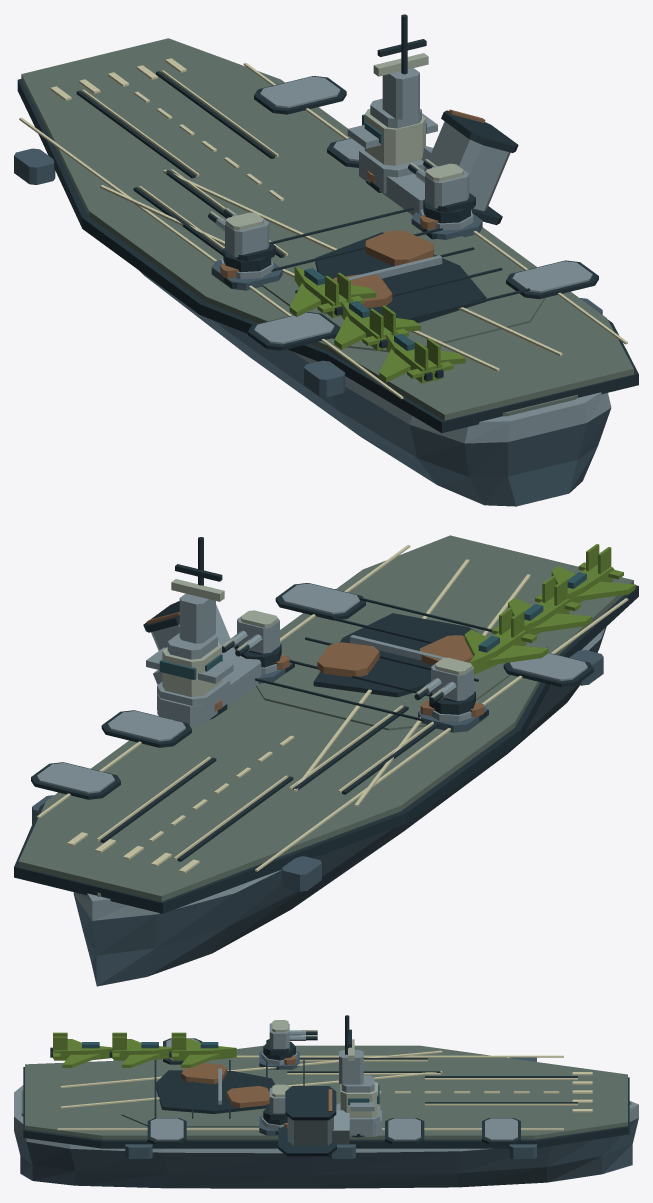
The model's file is historic-john-f-kennedy.glb.
3 renders of one model, top to bottom at view 1: azimuth 30°, elevation 25°; view 2: azimuth 150°, elevation 25°; view 3: azimuth 270°, elevation 25°, orthographic. The views are drawn at different scales.
Visible parts, largest first — view 1: historic-john-f-kennedy-historic-john-f-kennedy-geometry, historic-john-f-kennedy-part_flight-deck.021-geometry, historic-john-f-kennedy-ruin_flight-deck.020-geometry, historic-john-f-kennedy-part_bridge.079-geometry, historic-john-f-kennedy-outward-canted-uptake.001-geometry, historic-john-f-kennedy-turret_aa_aa-port.083-geometry, historic-john-f-kennedy-turret_aa_aa-starboard.079-geometry, historic-john-f-kennedy-parked_aircraft_0.021-geometry, historic-john-f-kennedy-parked_aircraft_2.021-geometry, historic-john-f-kennedy-parked_aircraft_1.021-geometry, historic-john-f-kennedy-aircraft_lift_0.021-geometry, historic-john-f-kennedy-aircraft_lift_2.016-geometry (+5 smaller); view 2: historic-john-f-kennedy-historic-john-f-kennedy-geometry, historic-john-f-kennedy-part_flight-deck.021-geometry, historic-john-f-kennedy-ruin_flight-deck.020-geometry, historic-john-f-kennedy-part_bridge.079-geometry, historic-john-f-kennedy-parked_aircraft_2.021-geometry, historic-john-f-kennedy-parked_aircraft_0.021-geometry, historic-john-f-kennedy-parked_aircraft_1.021-geometry, historic-john-f-kennedy-turret_aa_aa-port.083-geometry, historic-john-f-kennedy-aircraft_lift_1.021-geometry, historic-john-f-kennedy-aircraft_lift_0.021-geometry, historic-john-f-kennedy-turret_aa_aa-starboard.079-geometry, historic-john-f-kennedy-aircraft_lift_2.016-geometry (+4 smaller); view 3: historic-john-f-kennedy-historic-john-f-kennedy-geometry, historic-john-f-kennedy-part_flight-deck.021-geometry, historic-john-f-kennedy-ruin_flight-deck.020-geometry, historic-john-f-kennedy-outward-canted-uptake.001-geometry, historic-john-f-kennedy-part_bridge.079-geometry, historic-john-f-kennedy-parked_aircraft_2.021-geometry, historic-john-f-kennedy-parked_aircraft_0.021-geometry, historic-john-f-kennedy-parked_aircraft_1.021-geometry, historic-john-f-kennedy-turret_aa_aa-port.083-geometry, historic-john-f-kennedy-aircraft_lift_1.021-geometry, historic-john-f-kennedy-aircraft_lift_2.016-geometry, historic-john-f-kennedy-aircraft_lift_0.021-geometry (+3 smaller).
Boxes of the visible parts, x1,y1,x2,y2 form: historic-john-f-kennedy-historic-john-f-kennedy-geometry: (14, 38, 638, 506); historic-john-f-kennedy-part_flight-deck.021-geometry: (262, 207, 545, 352); historic-john-f-kennedy-ruin_flight-deck.020-geometry: (315, 230, 486, 322); historic-john-f-kennedy-part_bridge.079-geometry: (347, 14, 437, 193); historic-john-f-kennedy-outward-canted-uptake.001-geometry: (421, 109, 518, 225); historic-john-f-kennedy-turret_aa_aa-port.083-geometry: (208, 207, 275, 272); historic-john-f-kennedy-turret_aa_aa-starboard.079-geometry: (408, 159, 475, 223); historic-john-f-kennedy-parked_aircraft_0.021-geometry: (379, 332, 465, 383); historic-john-f-kennedy-parked_aircraft_2.021-geometry: (289, 266, 376, 317); historic-john-f-kennedy-parked_aircraft_1.021-geometry: (334, 299, 420, 350); historic-john-f-kennedy-aircraft_lift_0.021-geometry: (254, 76, 346, 114); historic-john-f-kennedy-aircraft_lift_2.016-geometry: (506, 260, 598, 299); historic-john-f-kennedy-historic-john-f-kennedy-geometry: (14, 535, 638, 986); historic-john-f-kennedy-part_flight-deck.021-geometry: (255, 593, 547, 730); historic-john-f-kennedy-ruin_flight-deck.020-geometry: (313, 613, 478, 697); historic-john-f-kennedy-part_bridge.079-geometry: (146, 537, 233, 721); historic-john-f-kennedy-parked_aircraft_2.021-geometry: (464, 607, 548, 674); historic-john-f-kennedy-parked_aircraft_0.021-geometry: (551, 544, 635, 603); historic-john-f-kennedy-parked_aircraft_1.021-geometry: (508, 575, 591, 635); historic-john-f-kennedy-turret_aa_aa-port.083-geometry: (414, 657, 475, 714); historic-john-f-kennedy-aircraft_lift_1.021-geometry: (101, 710, 191, 747); historic-john-f-kennedy-aircraft_lift_0.021-geometry: (31, 762, 120, 799); historic-john-f-kennedy-turret_aa_aa-starboard.079-geometry: (222, 610, 281, 667); historic-john-f-kennedy-aircraft_lift_2.016-geometry: (275, 583, 365, 620); historic-john-f-kennedy-historic-john-f-kennedy-geometry: (14, 1045, 638, 1188); historic-john-f-kennedy-part_flight-deck.021-geometry: (121, 1060, 318, 1127); historic-john-f-kennedy-ruin_flight-deck.020-geometry: (156, 1063, 275, 1113); historic-john-f-kennedy-outward-canted-uptake.001-geometry: (278, 1086, 349, 1156); historic-john-f-kennedy-part_bridge.079-geometry: (336, 1015, 380, 1135); historic-john-f-kennedy-parked_aircraft_2.021-geometry: (169, 1032, 236, 1067); historic-john-f-kennedy-parked_aircraft_0.021-geometry: (50, 1032, 112, 1067); historic-john-f-kennedy-parked_aircraft_1.021-geometry: (109, 1032, 171, 1067); historic-john-f-kennedy-turret_aa_aa-port.083-geometry: (263, 1020, 317, 1060); historic-john-f-kennedy-aircraft_lift_1.021-geometry: (385, 1118, 424, 1144); historic-john-f-kennedy-aircraft_lift_2.016-geometry: (147, 1118, 186, 1144); historic-john-f-kennedy-aircraft_lift_0.021-geometry: (482, 1118, 520, 1144).
Bounding box in the file's own units: 2.48 × 1.92 × 5.89.
